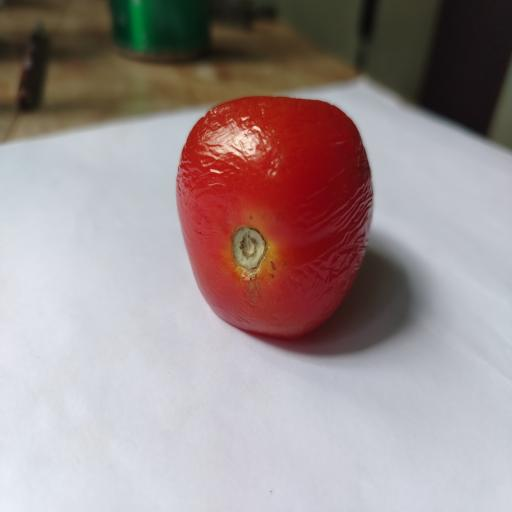spoiled: (176, 97, 372, 337)
